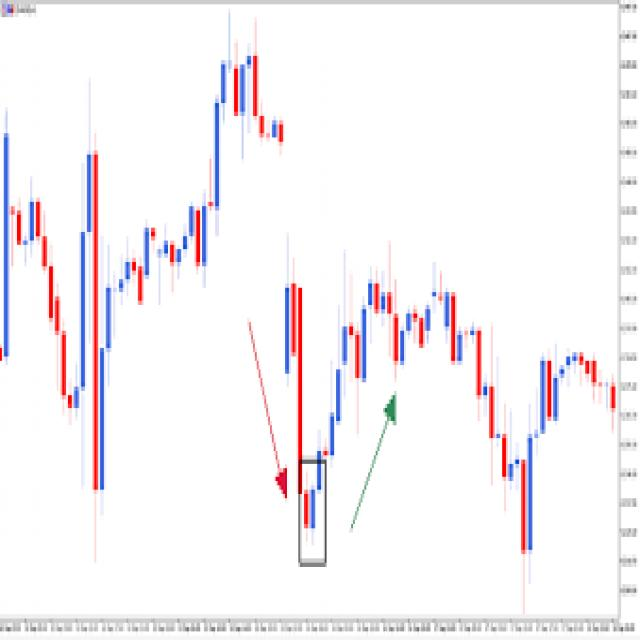topo_duplo: (323, 234, 488, 423)
